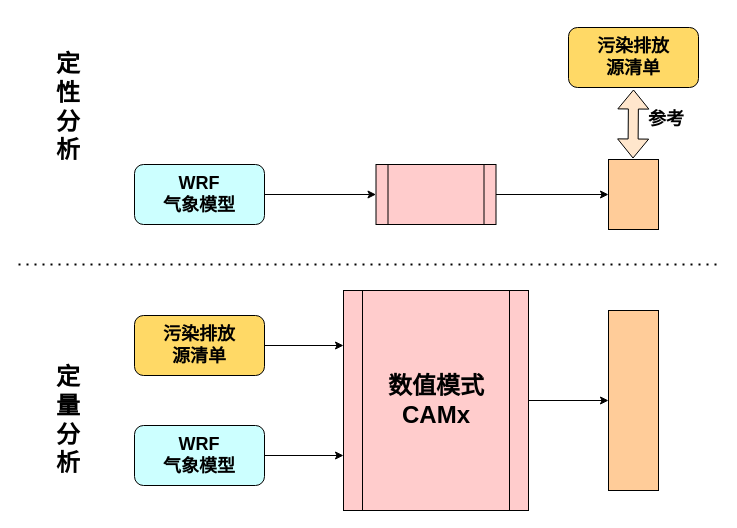
This 737x528 diagram has some shape labels left out. The centre of each missing label's shape, as x and y in pixels:
HYSPLIT: point 435,194
溯源: point 633,194
预报 溯源: point 633,400
